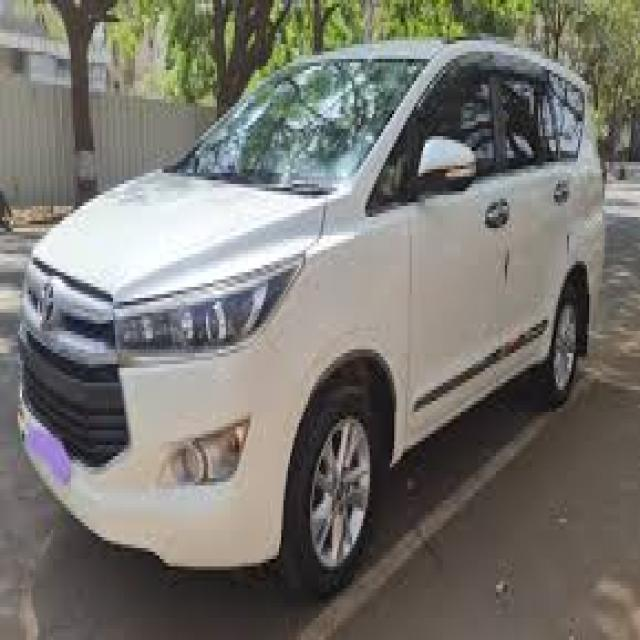light_vehicle: (17, 38, 606, 600)
